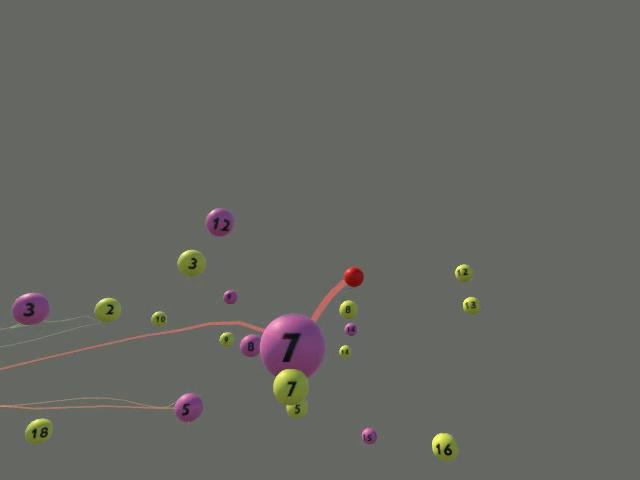ball_02_yellow: (93, 297, 121, 322)
ball_03_pink: (11, 291, 49, 324)
ball_03_yellow: (176, 249, 205, 277)
ball_05_pink: (174, 392, 202, 422)
ball_05_yellow: (285, 399, 307, 417)
ball_07_pink: (259, 313, 325, 378)
ball_07_yellow: (272, 368, 309, 405)
ball_08_pink: (239, 333, 260, 357)
ball_08_yellow: (338, 299, 357, 319)
ball_09_pink: (223, 289, 237, 304)
ball_09_yellow: (218, 331, 233, 346)
ball_10_yellow: (150, 311, 166, 326)
ball_12_pink: (204, 207, 234, 236)
ball_12_yellow: (454, 263, 473, 282)
ball_13_yellow: (462, 296, 480, 314)
ball_14_pink: (343, 321, 357, 336)
ball_14_yellow: (338, 344, 351, 358)
ball_15_pink: (361, 426, 376, 443)
ball_16_yellow: (431, 432, 458, 461)
ball_18_yellow: (24, 417, 52, 444)
user_cursor: (343, 266, 364, 287)
